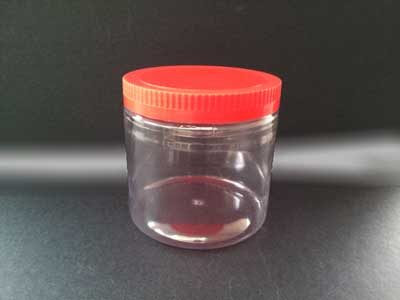plastic: (121, 64, 281, 250)
